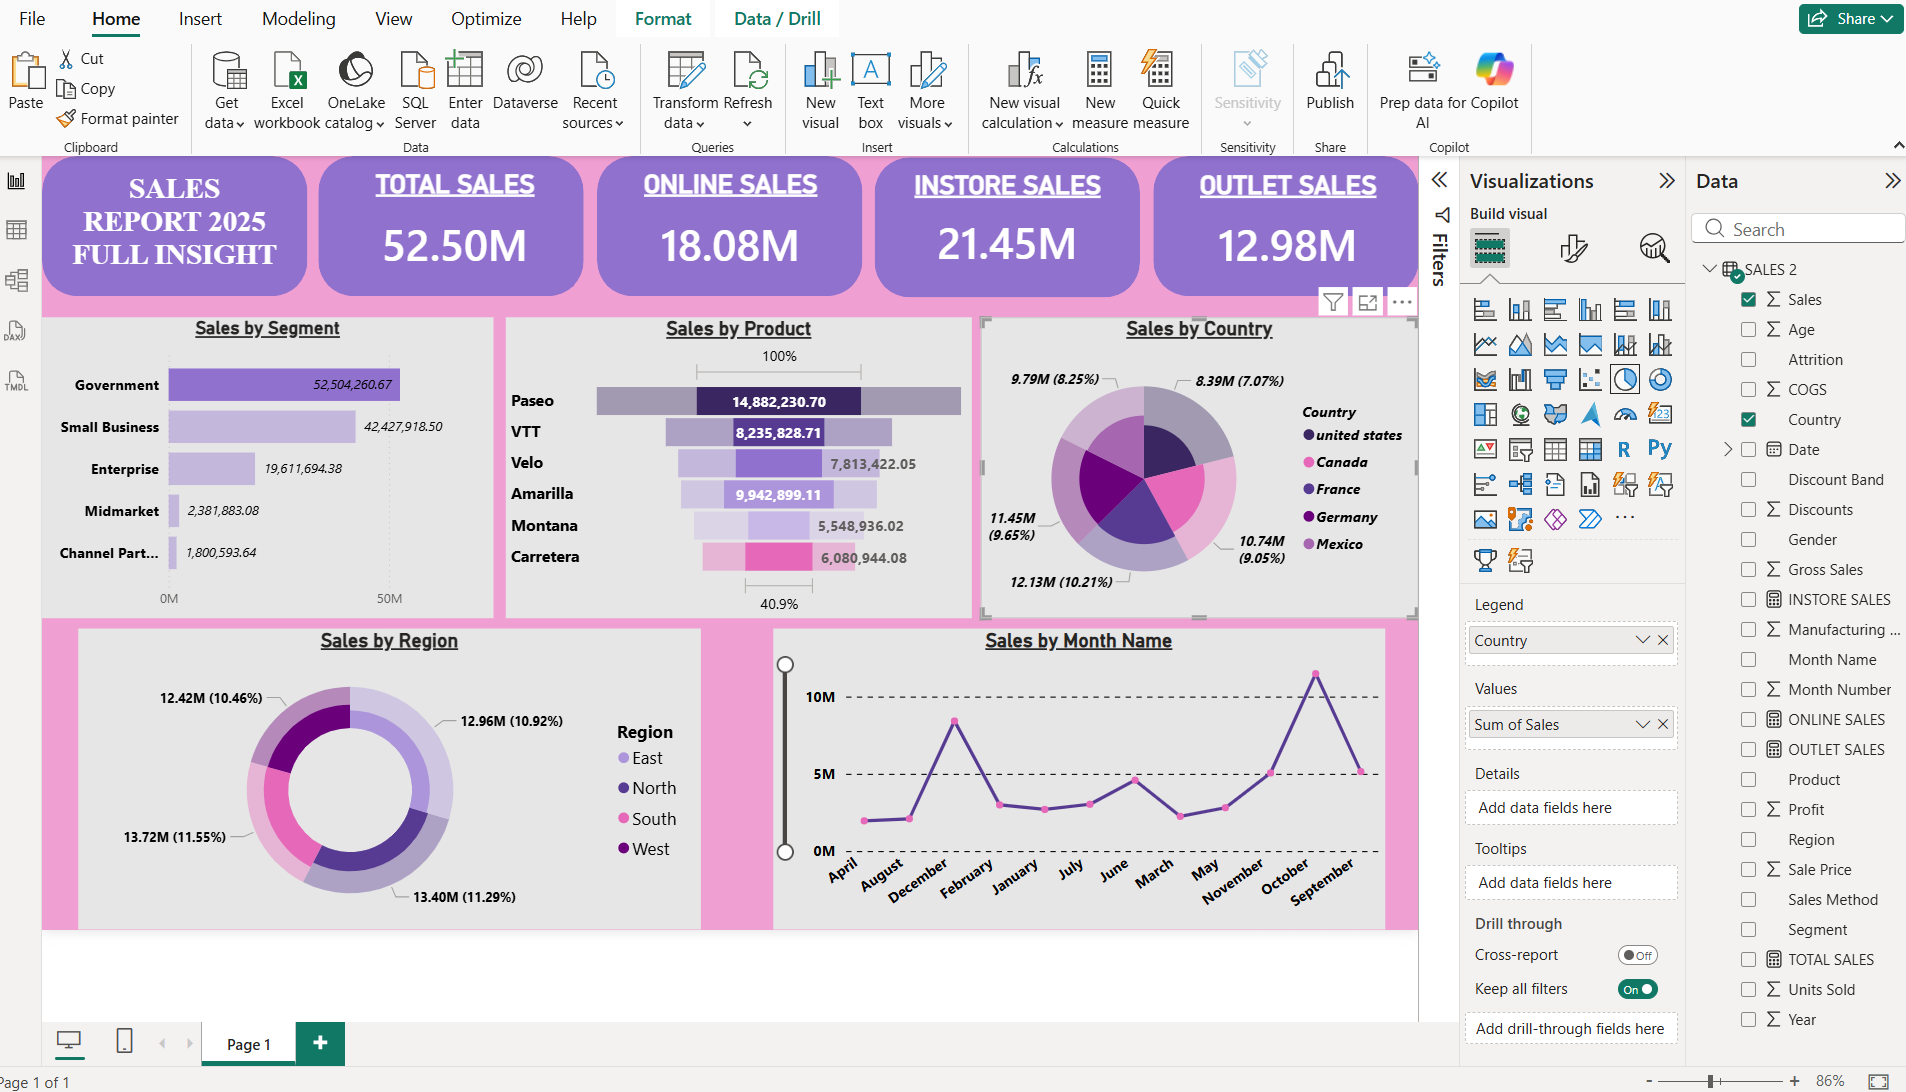

The page's visual inventory and layout, read from the dashboard file:
{"tool":"powerbi","page":{"name":"Page 1","canvas":[1280,720],"ordinal":0},"visuals":[{"type":"shape","box":[0,0,247,130.4],"z":0},{"type":"shape","box":[256.6,0,247,130.4],"z":1000},{"type":"shape","box":[773.9,1.4,247,130.4],"z":2000},{"type":"shape","box":[1033.3,0,247,130.4],"z":3000},{"type":"shape","box":[516,0,247,130.4],"z":4000},{"type":"textbox","box":[18.6,10.5,209.3,110.5],"z":5000},{"type":"cardVisual","title":"TOTAL SALES","fields":{"Data":["SALES 2.TOTAL SALES"]},"box":[274.4,11.6,219.8,109.3],"z":6000},{"type":"cardVisual","title":"ONLINE SALES","fields":{"Data":["SALES 2.ONLINE SALES"]},"box":[533.7,11.6,214,109.3],"z":7000},{"type":"cardVisual","title":"INSTORE SALES","fields":{"Data":["SALES 2.INSTORE SALES"]},"box":[795.4,12.8,205.8,104.7],"z":8000},{"type":"cardVisual","title":"OUTLET SALES","fields":{"Data":["SALES 2.OUTLET SALES"]},"box":[1055.8,12.8,207,108.1],"z":9000},{"type":"clusteredBarChart","title":"Sales by Segment","fields":{"Category":["SALES 2.Segment"],"Y":["Sum(SALES 2. Sales)"]},"box":[0,150,419.8,280.2],"z":10000},{"type":"funnel","title":"Sales by Product","fields":{"Y":["Sum(SALES 2. Sales)"],"Category":["SALES 2.Product"]},"box":[431.4,150,433.7,280.2],"z":12000},{"type":"pieChart","title":" Sales by Country","fields":{"Y":["Sum(SALES 2. Sales)"],"Category":["SALES 2.Country"]},"box":[873.3,150,407,280.2],"z":13000},{"type":"donutChart","title":"Sales by Region","fields":{"Y":["Sum(SALES 2. Sales)"],"Category":["SALES 2.Region"]},"box":[33.7,439.5,579.1,280.2],"z":14000},{"type":"lineChart","title":"Sales by Month Name","fields":{"Y":["Sum(SALES 2. Sales)"],"Category":["SALES 2.Month Name"]},"box":[680.2,439.5,568.6,280.2],"z":15000}]}

Visuals, with their boxes on the page's 1280x720 design canvas (x1, y1, x2, y2). These are canvas units, not pixel positions in the 1906x1092 screenshot, which may show the page scaled, cropped or inside an application window:
shape: l=0, t=0, r=247, b=130
shape: l=257, t=0, r=504, b=130
shape: l=774, t=1, r=1021, b=132
shape: l=1033, t=0, r=1280, b=130
shape: l=516, t=0, r=763, b=130
textbox: l=19, t=10, r=228, b=121
"TOTAL SALES" cardVisual: l=274, t=12, r=494, b=121
"ONLINE SALES" cardVisual: l=534, t=12, r=748, b=121
"INSTORE SALES" cardVisual: l=795, t=13, r=1001, b=118
"OUTLET SALES" cardVisual: l=1056, t=13, r=1263, b=121
"Sales by Segment" clusteredBarChart: l=0, t=150, r=420, b=430
"Sales by Product" funnel: l=431, t=150, r=865, b=430
" Sales by Country" pieChart: l=873, t=150, r=1280, b=430
"Sales by Region" donutChart: l=34, t=440, r=613, b=720
"Sales by Month Name" lineChart: l=680, t=440, r=1249, b=720
